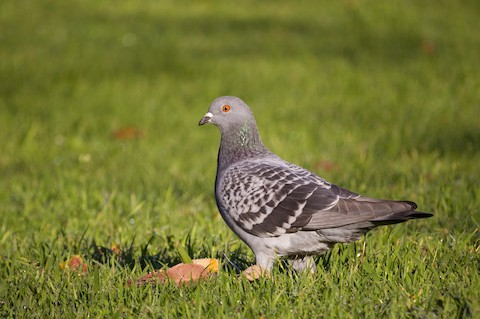pigeon: (196, 93, 435, 279)
